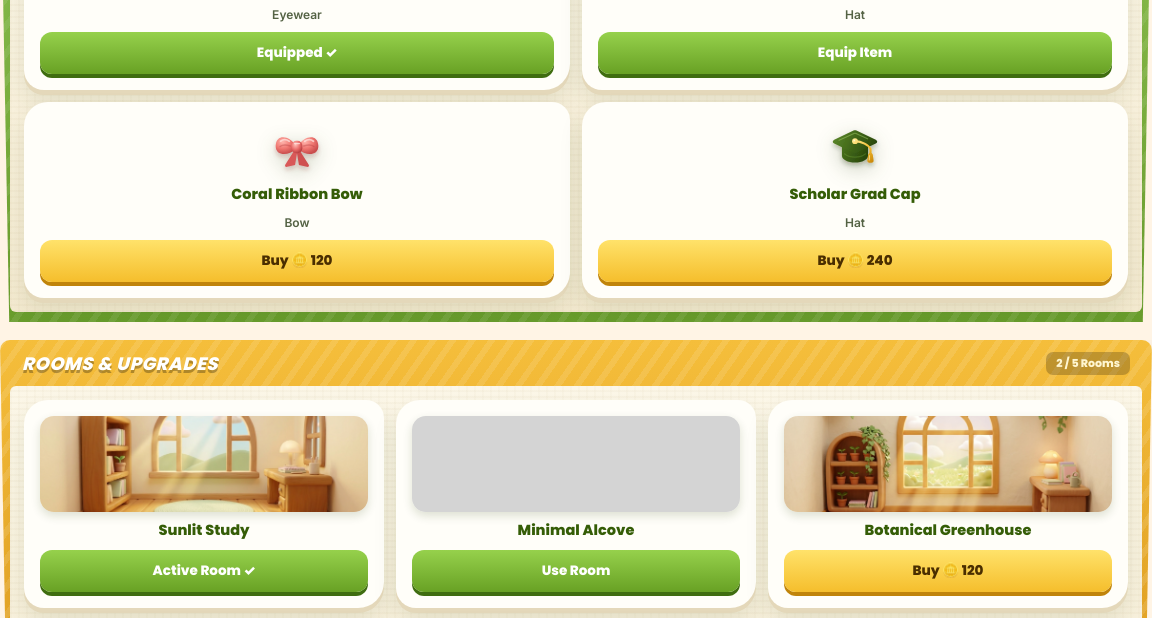
Test: ShopView › opens ConfirmPurchaseModal when buying a locked shop item and unlocks it on confirm
(page scrolled)
Click the button "Buy 🪙 120" below "Coral Ribbon Bow": (297, 261) [40,240,554,282]
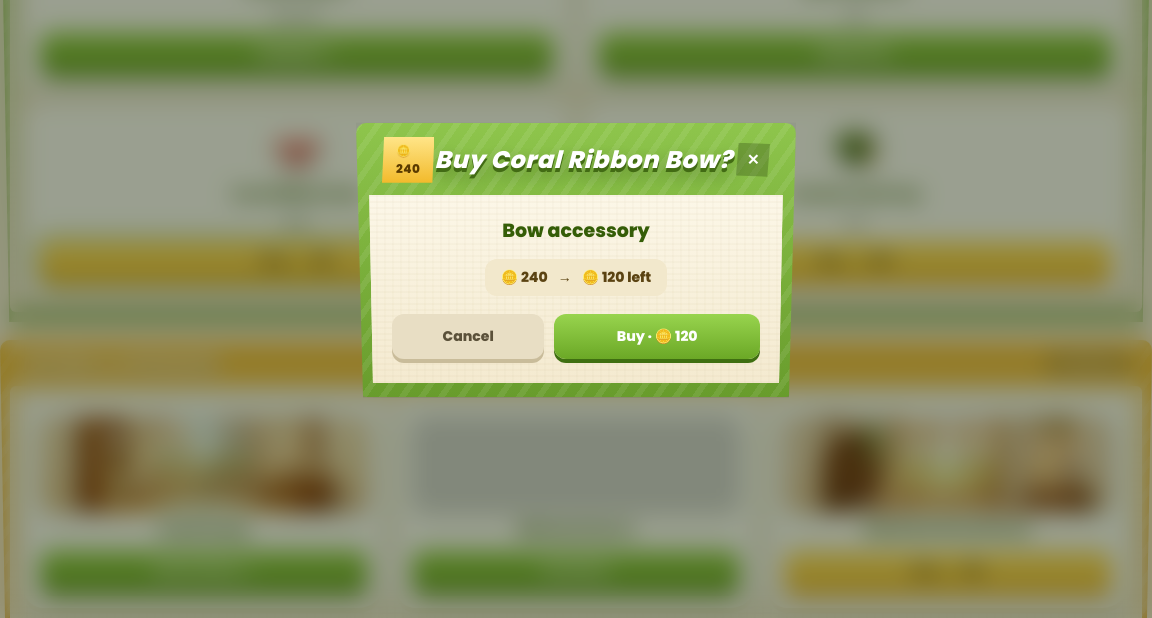
Expected: the heading "Buy Coral Ribbon Bow?" is shown, [434,142,733,178]
Click the button "Buy · 🪙 120": (657, 337) [554,314,760,359]
(page scrolled)
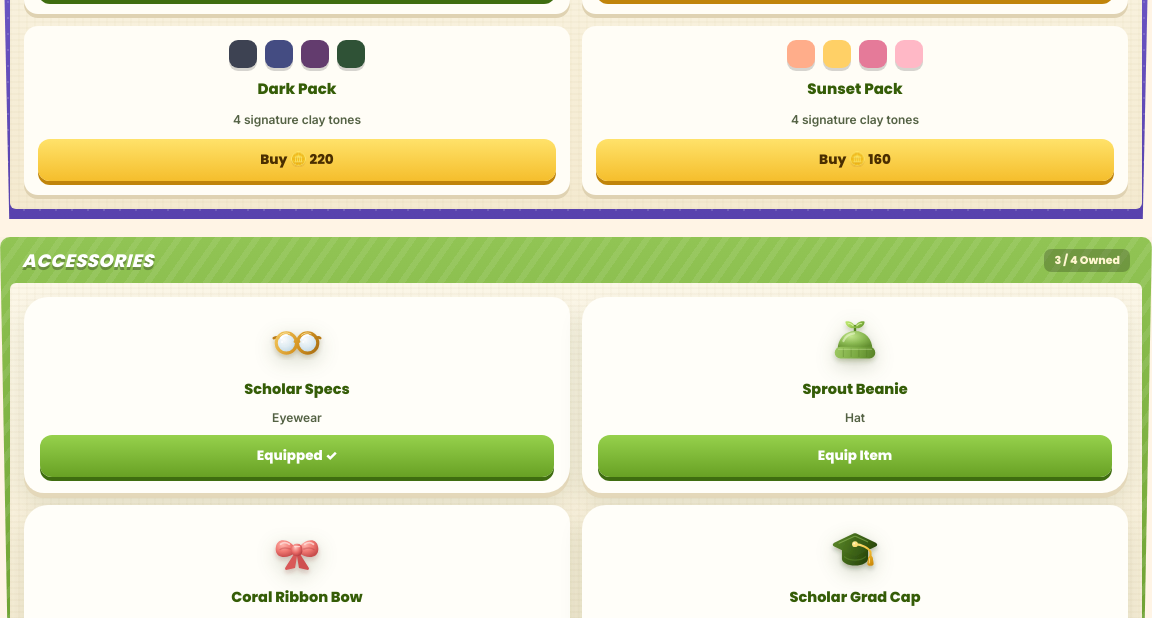
Expected: the text "3 / 4 Owned" is shown, [1044,249,1130,272]
